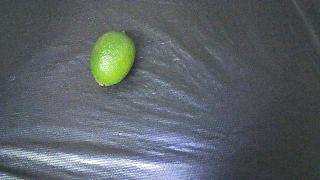LOCAL: (90, 31, 135, 86)
